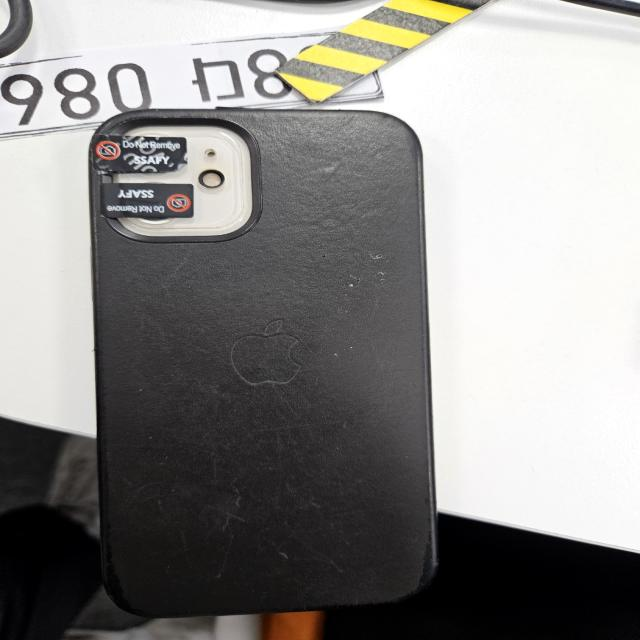phone: (87, 106, 439, 621)
removed_sticker: (94, 136, 190, 172)
sticker: (102, 182, 194, 218)
